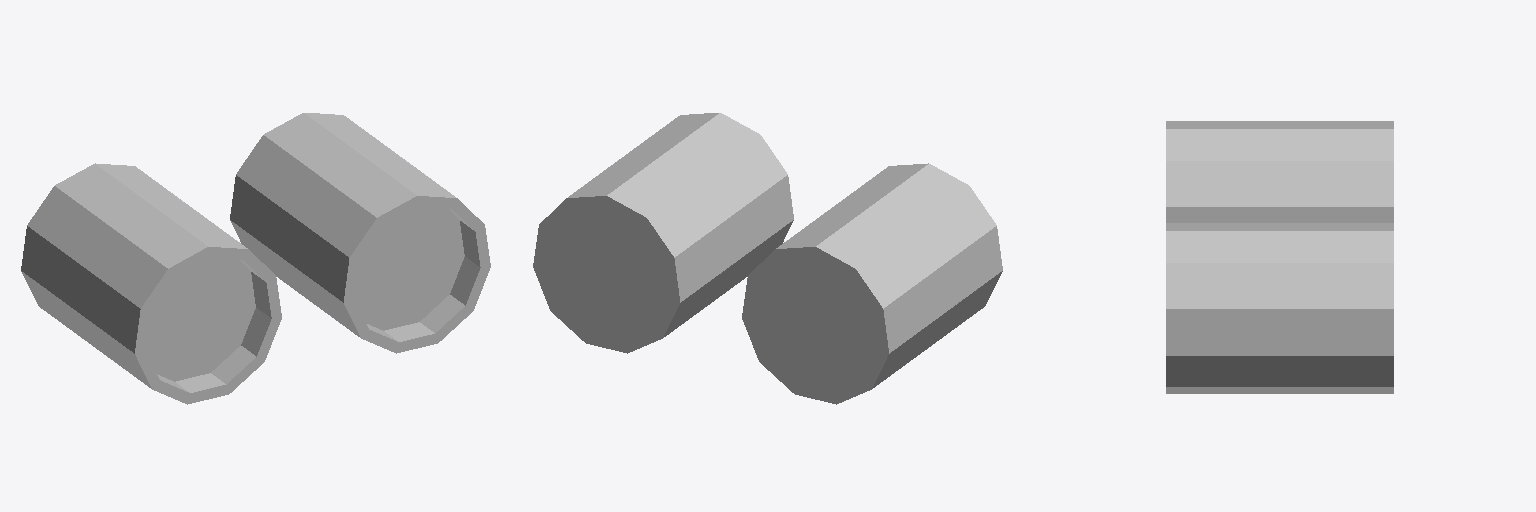
Rendered from eyes.obj.
The picture shows the model from 3 angles: view 1: azimuth 30°, elevation 25°; view 2: azimuth 150°, elevation 25°; view 3: azimuth 270°, elevation 25°; orthographic projection.
Visible parts, largest first — view 1: Cylinder; view 2: Cylinder; view 3: Cylinder.
Boxes of the visible parts, box(x1,y1,x2,y2) form: Cylinder: box(21, 113, 490, 404); Cylinder: box(533, 113, 1002, 404); Cylinder: box(1166, 121, 1393, 393).
Size of the model in its own units: 1.3 by 0.5326 by 0.7188.